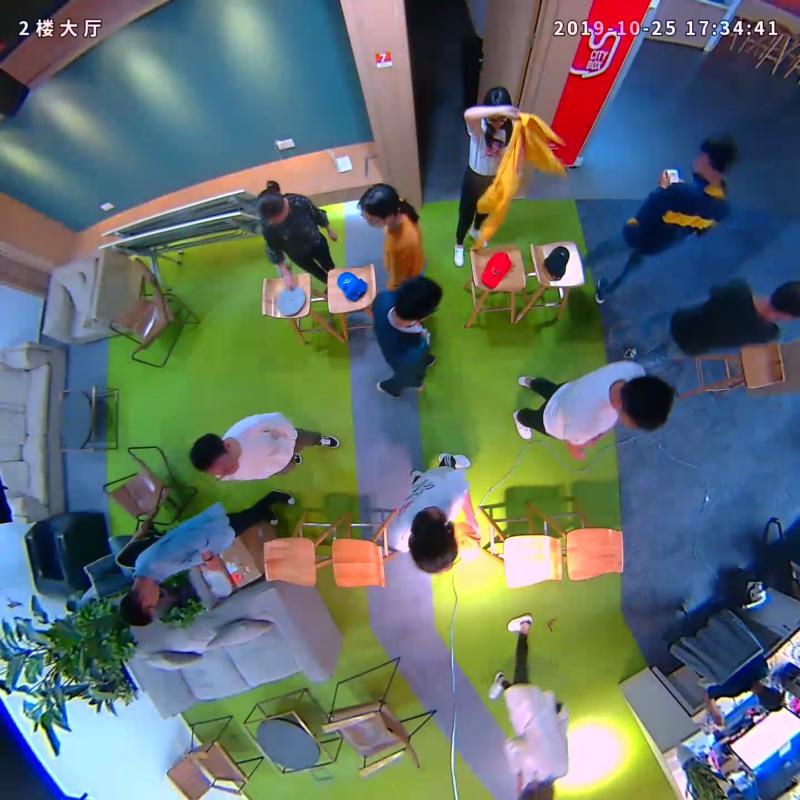head: (403, 508, 465, 576), (615, 369, 677, 436), (386, 274, 452, 329), (690, 128, 744, 192), (185, 431, 240, 487), (352, 179, 406, 234), (472, 83, 522, 133), (247, 178, 297, 224), (115, 577, 157, 627), (766, 273, 800, 323)
